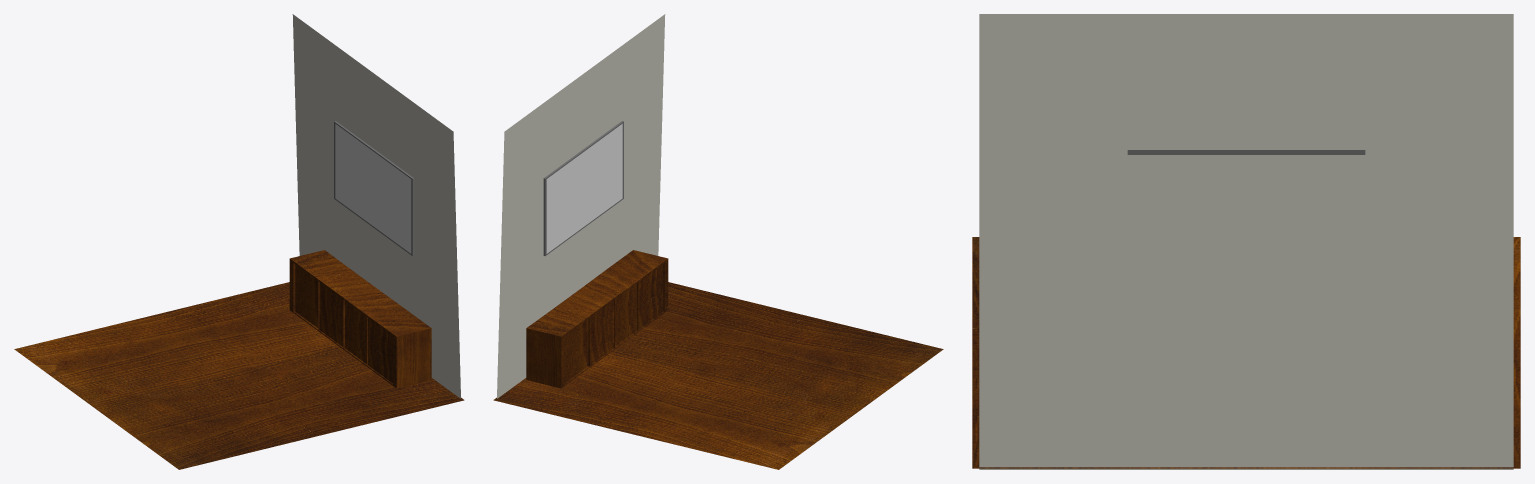
Rendered from blender2.dae.
The picture shows the model from 3 angles, left to right: view 1: azimuth 30°, elevation 25°; view 2: azimuth 150°, elevation 25°; view 3: azimuth 270°, elevation 25°; orthographic projection. The views are drawn at different scales.
Visible parts, largest first — view 1: Plane, Plane.001, Cube.001, Cube; view 2: Plane, Plane.001, Cube.001, Cube; view 3: Plane.001, Plane, Cube.
Part boxes in pixels (x1,y1,x2,y2): Plane: (14, 282, 464, 469); Plane.001: (292, 14, 460, 398); Cube.001: (289, 250, 431, 388); Cube: (334, 121, 414, 256); Plane: (493, 282, 943, 469); Plane.001: (497, 14, 665, 398); Cube.001: (526, 250, 668, 388); Cube: (543, 121, 623, 256); Plane.001: (979, 14, 1513, 469); Plane: (972, 237, 1520, 468); Cube: (1127, 150, 1365, 154).
Bounding box in the file's own units: 3.92 × 3.92 × 3.55.
Materials: 5 (2 with a texture image).
